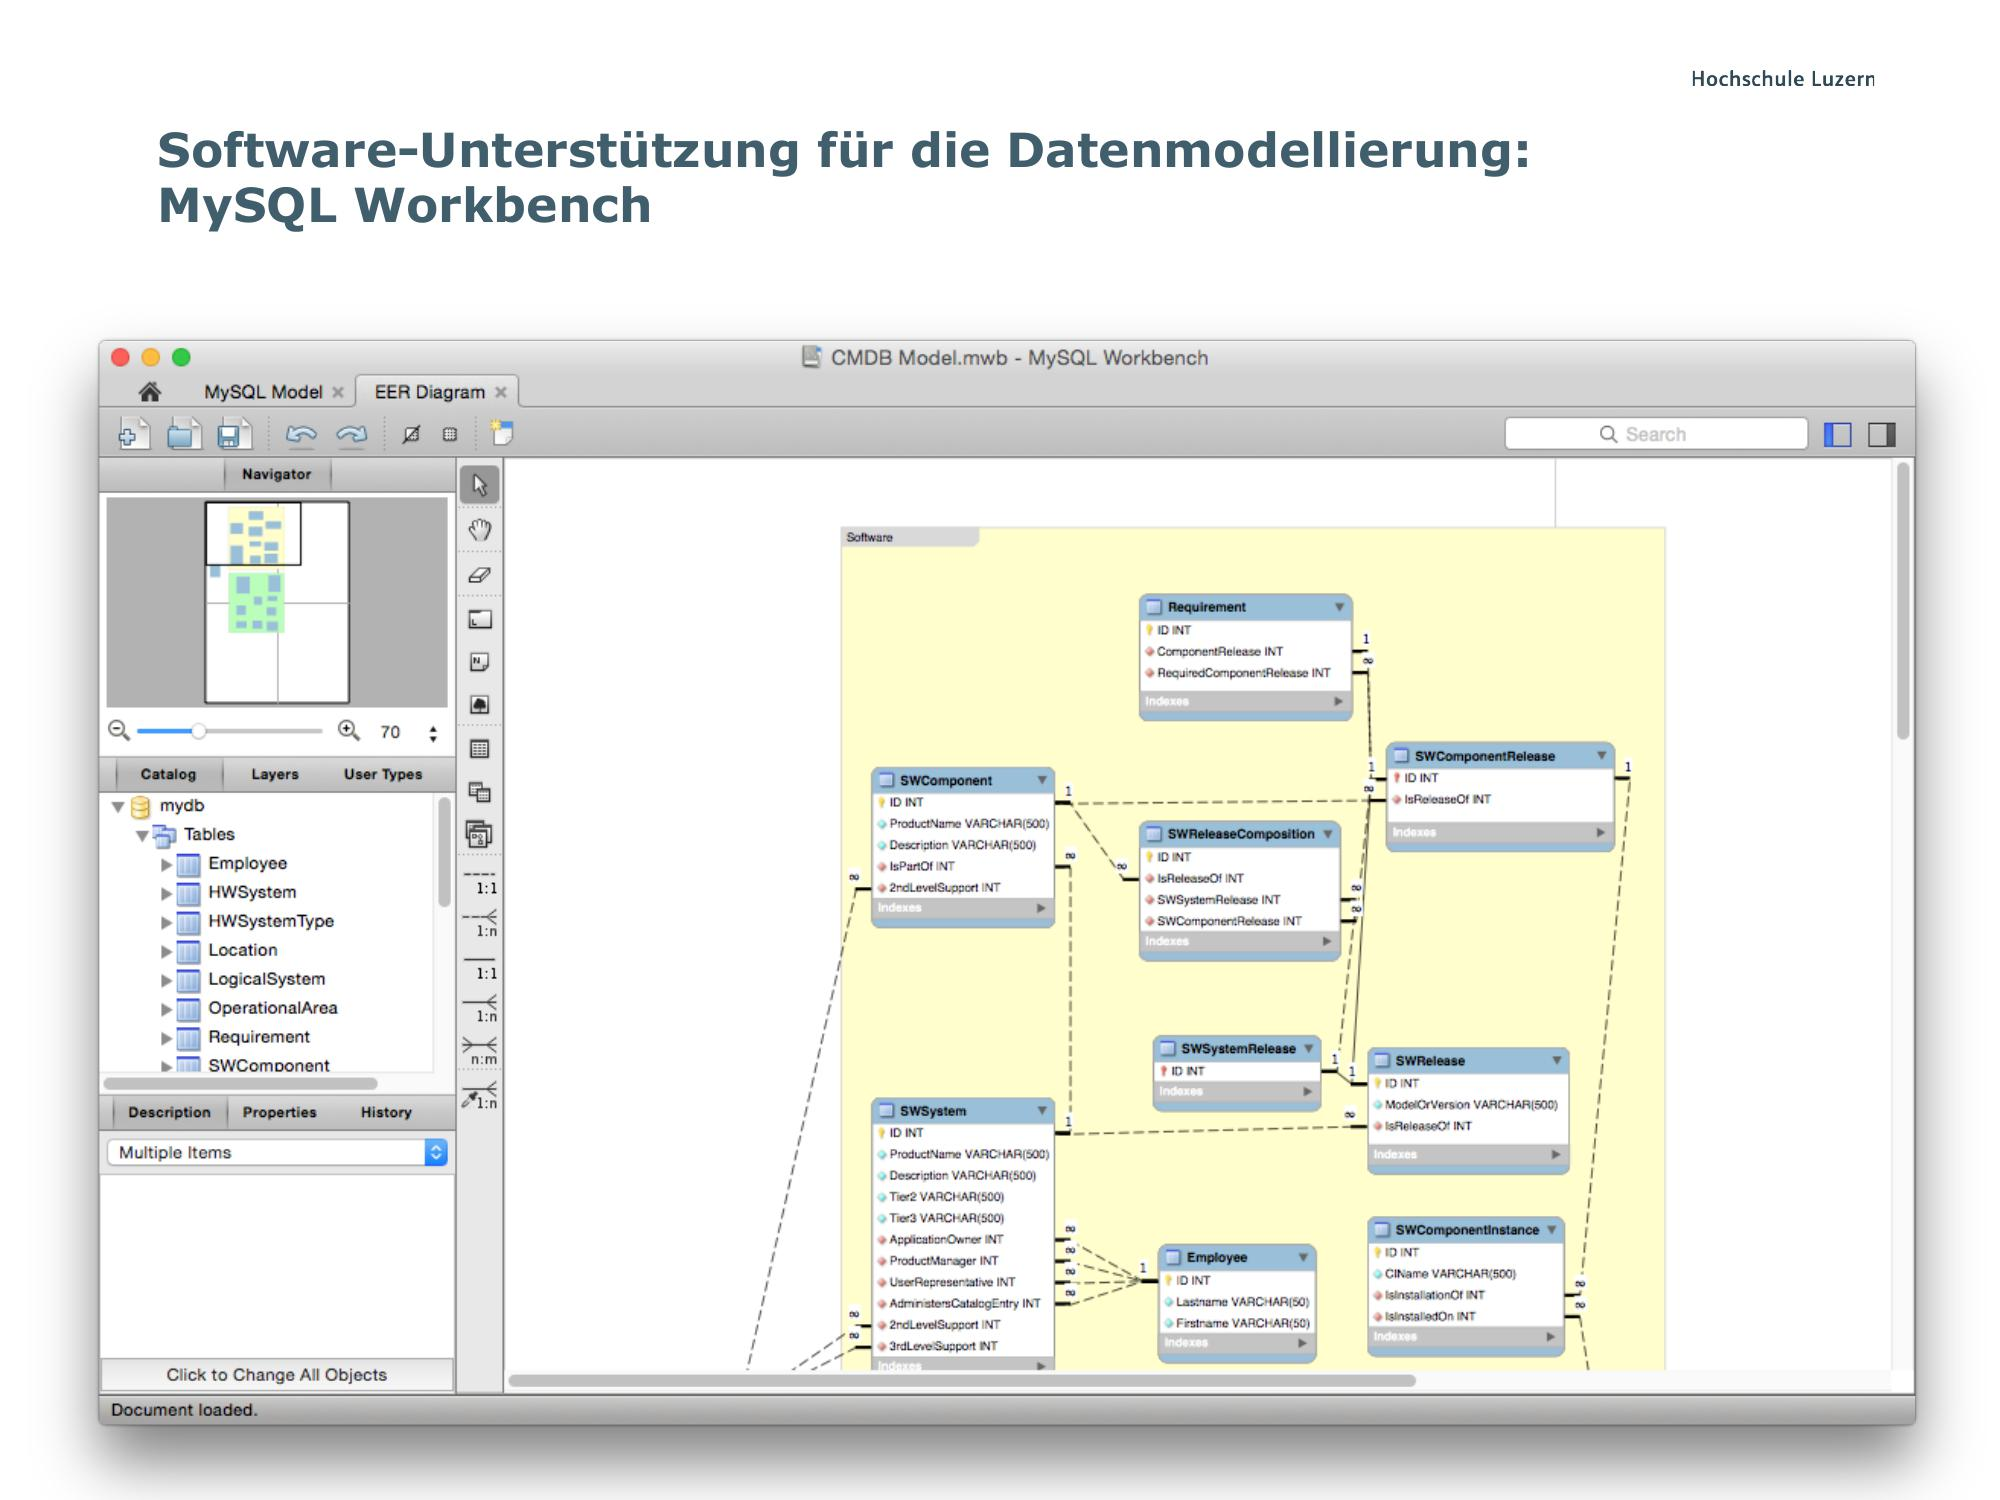Title: (146, 124, 1548, 233)
